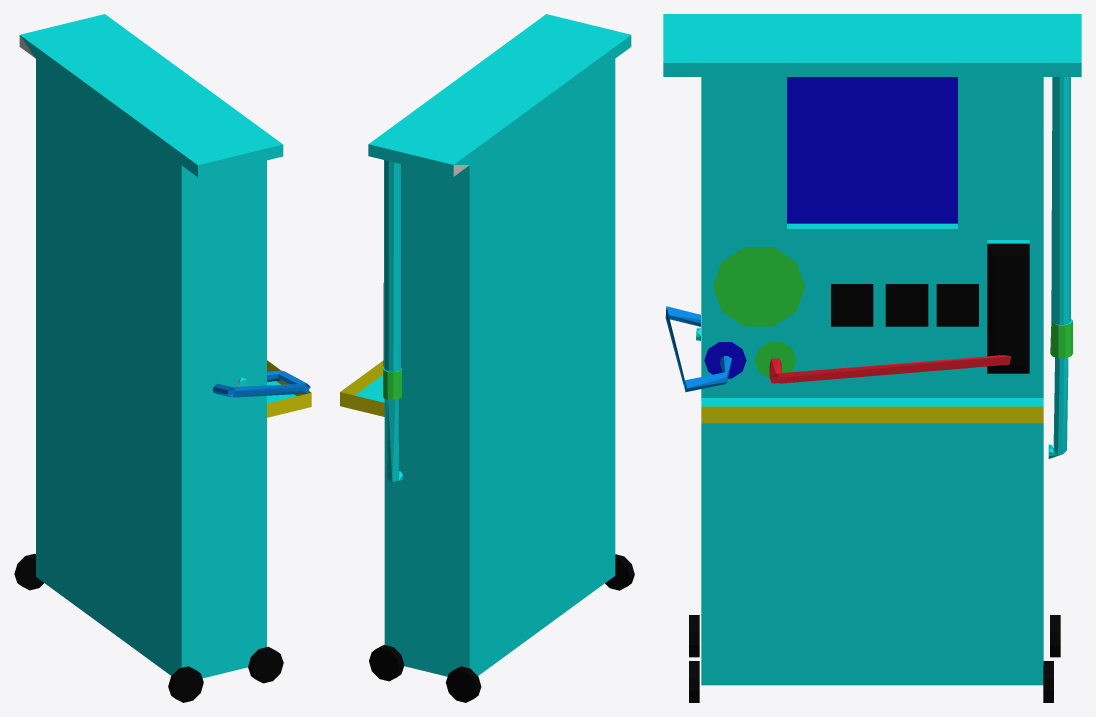
The model's file is DialysisMachine.fbx.
3 views of the same model, side by side, from view 1: azimuth 30°, elevation 25°; view 2: azimuth 150°, elevation 25°; view 3: azimuth 270°, elevation 25° (orthographic). The views are drawn at different scales.
Visible parts, largest first — view 1: Cube; view 2: Cube; view 3: Cube.
Boxes of the visible parts, x1=… form: Cube: x1=14, y1=14, x2=311, y2=702; Cube: x1=340, y1=14, x2=634, y2=702; Cube: x1=663, y1=14, x2=1081, y2=702.
Size of the model in its own units: 923 by 3331 by 1975.
